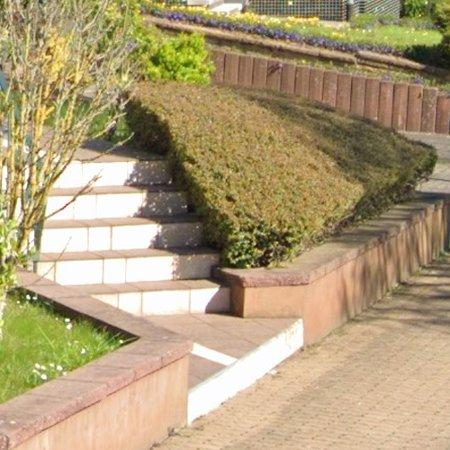stairs: (31, 144, 304, 420)
